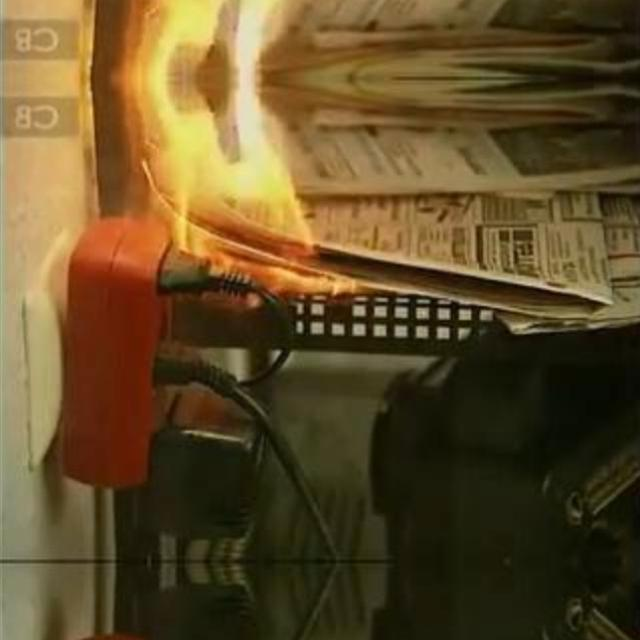smoke: (110, 0, 380, 301)
